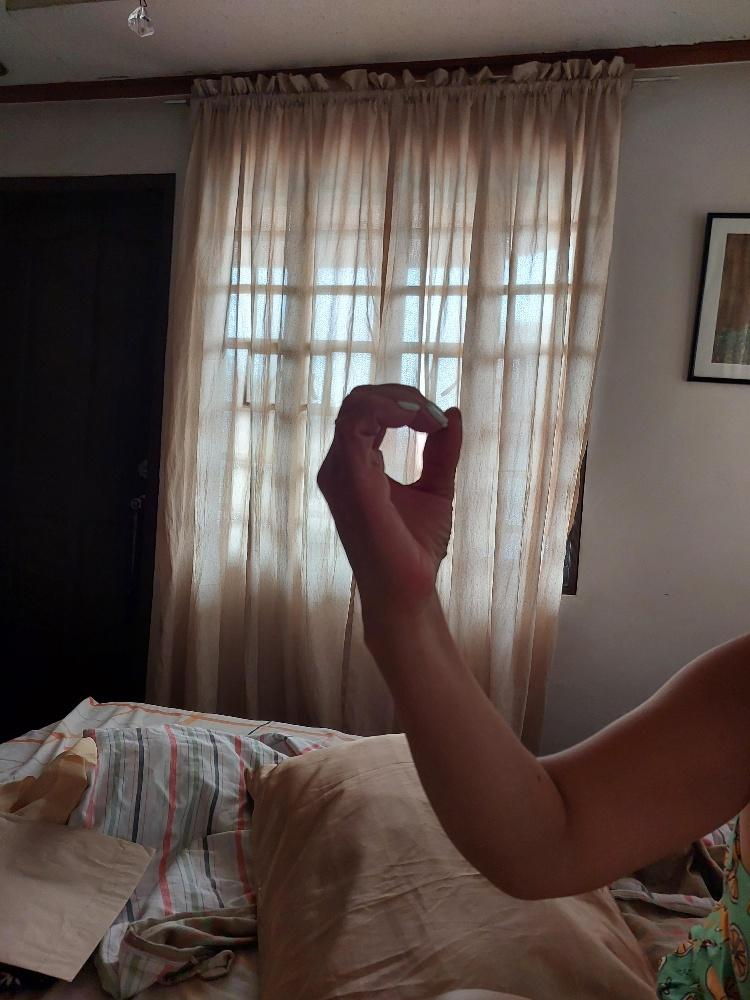o: (314, 378, 469, 611)
